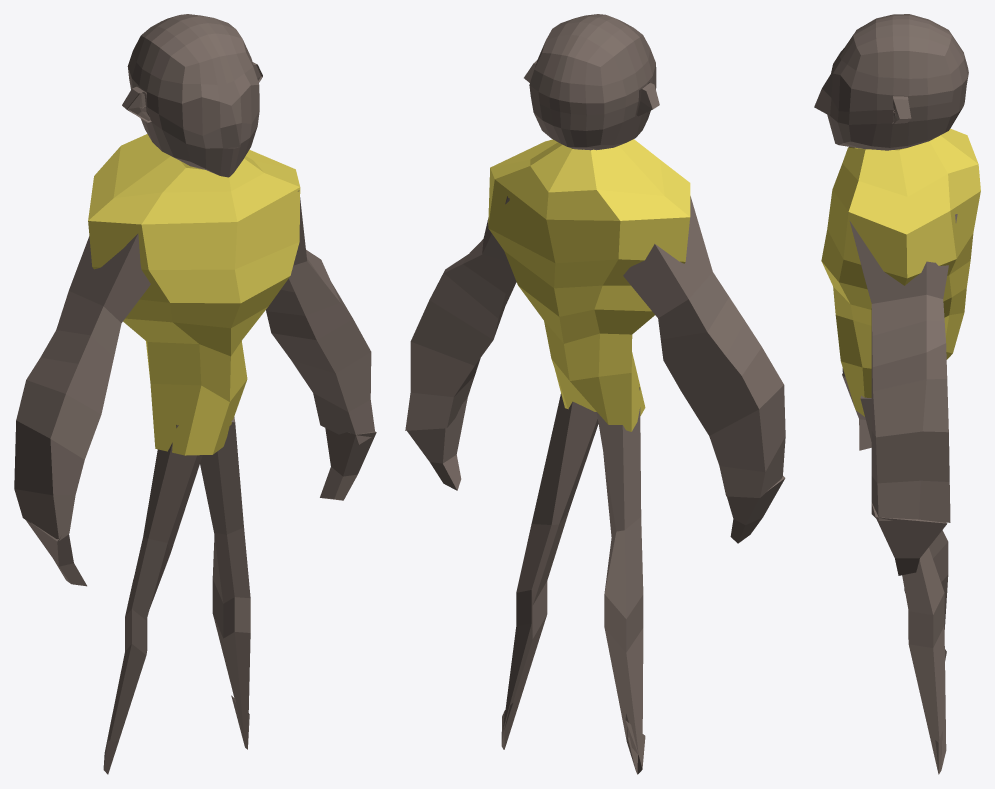
File: samurailowpolykakinagyon.fbx
The picture shows the model from 3 angles, left to right: view 1: azimuth 30°, elevation 25°; view 2: azimuth 150°, elevation 25°; view 3: azimuth 270°, elevation 25°; orthographic projection. The views are drawn at different scales.
Parts seen in each view (by area): view 1: Cube, Cylinder.004, Cube.003, Cylinder.002, Cylinder, Cylinder.001, Cube.001, Cube.002; view 2: Cube, Cylinder.004, Cube.003, Cylinder.002, Cylinder.001, Cylinder, Cube.001, Cube.002; view 3: Cube, Cylinder.002, Cube.003, Cylinder, Cube.001, Cylinder.001, Cube.002.
Boxes of the visible parts, box(x1,y1,x2,y2) form: Cube: box(88, 134, 300, 455); Cylinder.004: box(14, 233, 150, 540); Cube.003: box(122, 14, 262, 177); Cylinder.002: box(266, 190, 374, 444); Cylinder: box(200, 417, 250, 749); Cylinder.001: box(103, 425, 202, 774); Cube.001: box(320, 428, 376, 500); Cube.002: box(26, 520, 86, 586); Cube: box(488, 139, 690, 431); Cylinder.004: box(623, 196, 785, 497); Cube.003: box(524, 14, 659, 150); Cylinder.002: box(405, 196, 516, 430); Cylinder.001: box(596, 387, 645, 774); Cylinder: box(501, 394, 598, 749); Cube.001: box(407, 398, 467, 490); Cube.002: box(727, 476, 785, 543); Cube: box(821, 128, 980, 416); Cylinder.002: box(847, 213, 957, 522); Cube.003: box(814, 14, 968, 150); Cylinder: box(860, 395, 946, 774); Cube.001: box(872, 503, 947, 575); Cylinder.001: box(904, 530, 948, 660); Cube.002: box(842, 373, 871, 450).
Bounding box in the file's own units: 274 × 570 × 119.
